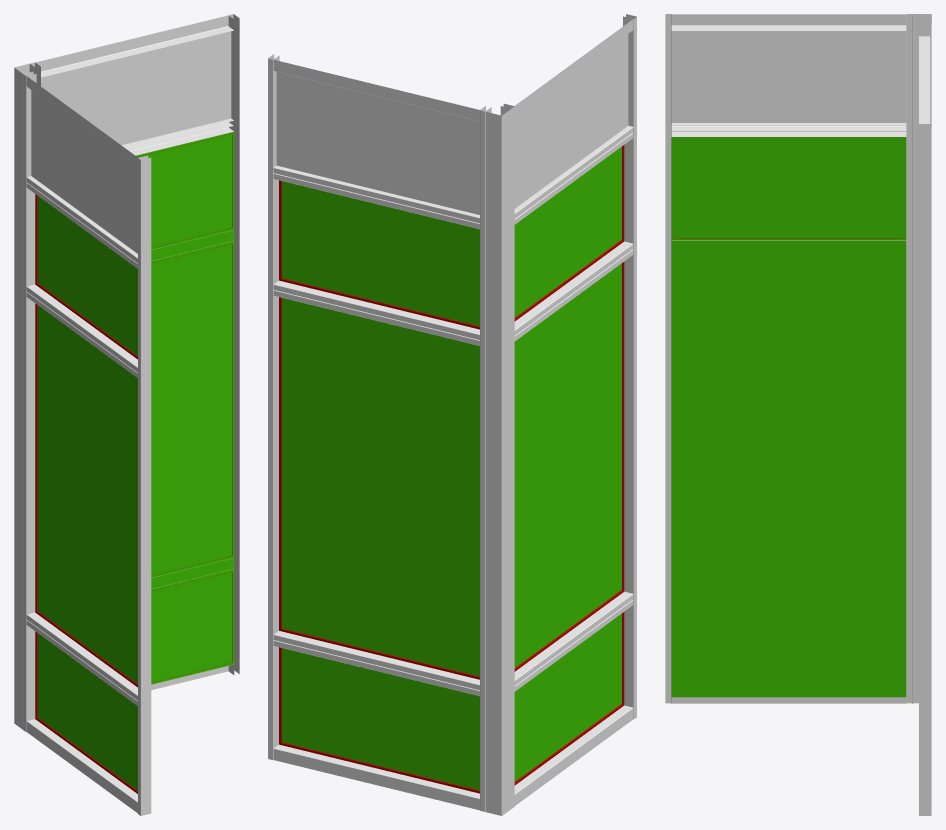
File: Wall04CornerExt.fbx
3 renders of one model, left to right at view 1: azimuth 30°, elevation 25°; view 2: azimuth 150°, elevation 25°; view 3: azimuth 270°, elevation 25°, orthographic. The views are drawn at different scales.
Parts seen in each view (by area): view 1: Wall04CornerExt; view 2: Wall04CornerExt; view 3: Wall04CornerExt.
Part boxes in pixels (<box>): Wall04CornerExt: <box>14,14,239,815</box>; Wall04CornerExt: <box>268,14,636,815</box>; Wall04CornerExt: <box>665,14,931,815</box>.
Bounding box in the file's own units: 105 × 300 × 105.
